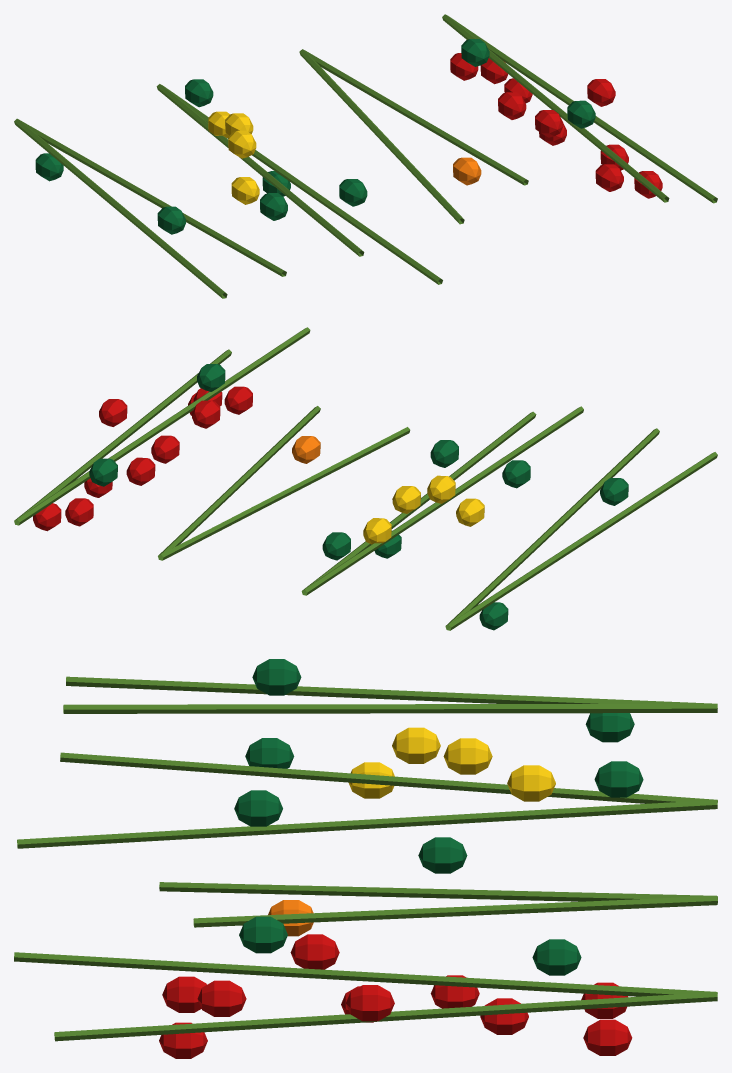
File: r20c3_stems.obj
The picture shows the model from 3 angles, top to bottom: view 1: azimuth 30°, elevation 25°; view 2: azimuth 150°, elevation 25°; view 3: azimuth 270°, elevation 25°; orthographic projection. The views are drawn at different scales.
Parts seen in each view (by area): view 1: r20c3_stems; view 2: r20c3_stems; view 3: r20c3_stems.
Part boxes in pixels (left/top/right/bottom): r20c3_stems: left=14, top=14, right=717, bottom=298; r20c3_stems: left=14, top=327, right=717, bottom=630; r20c3_stems: left=14, top=659, right=717, bottom=1058.
Size of the model in its own units: 1.63 by 0.2582 by 1.43.
